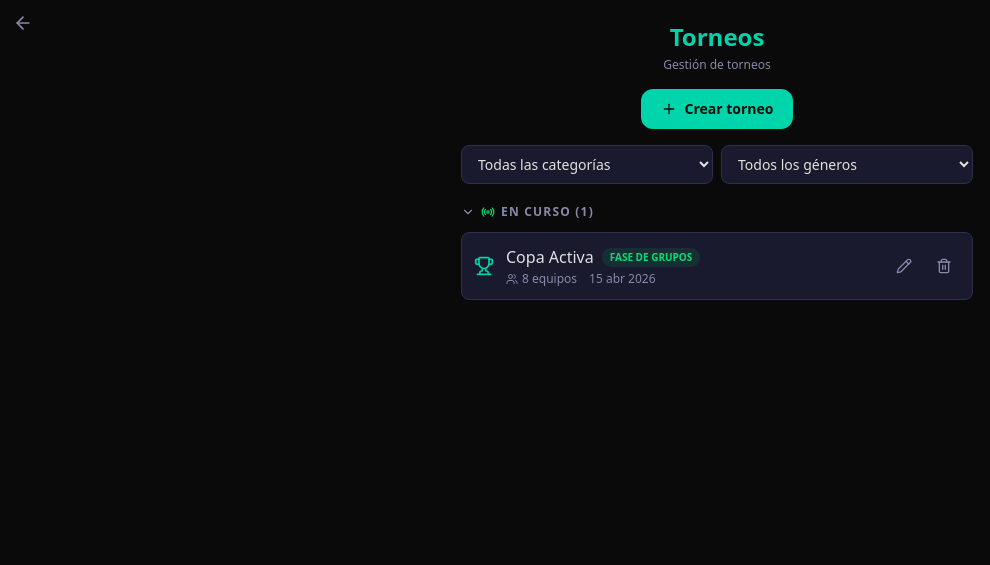
Test case: AdminTorneosPage › edit tournament › shows warning when editing a started tournament
Click the button named "Editar torneo" at [904, 266], box top-left (888, 250), bottom-right (920, 282)
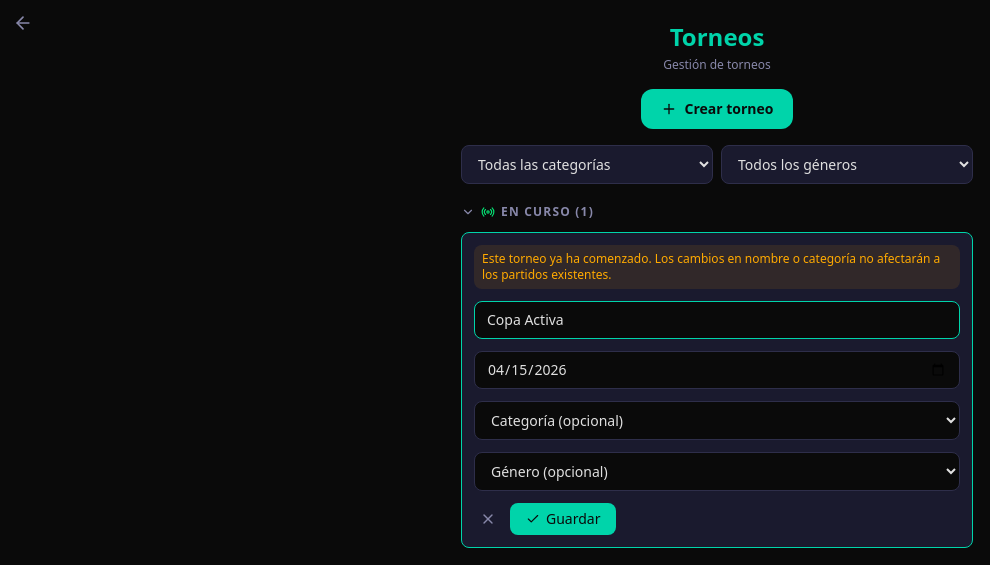
Expected: the text "ya ha comenzado" is shown, top-left (482, 250), bottom-right (940, 283)
